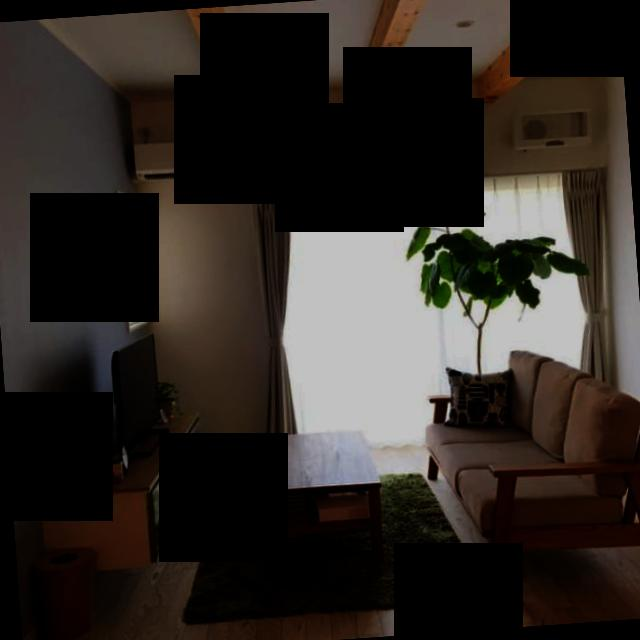natural desk: (268, 426, 386, 572)
natural sofa: (417, 337, 640, 598)
